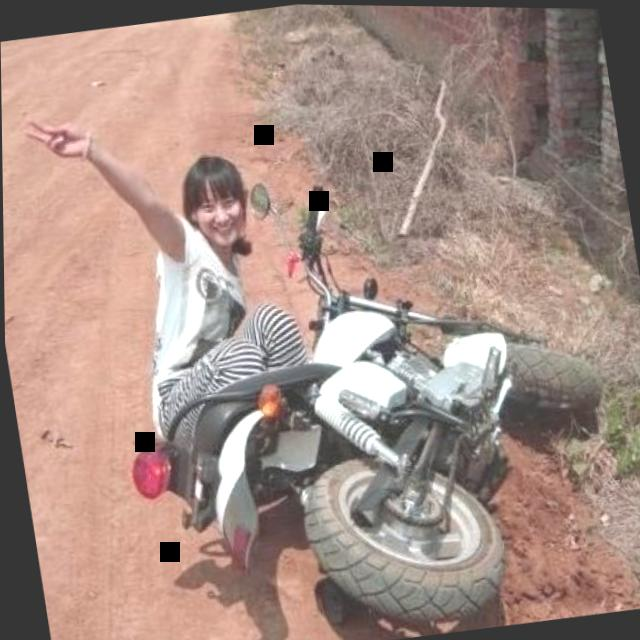Fall-Detected: (8, 59, 351, 497)
